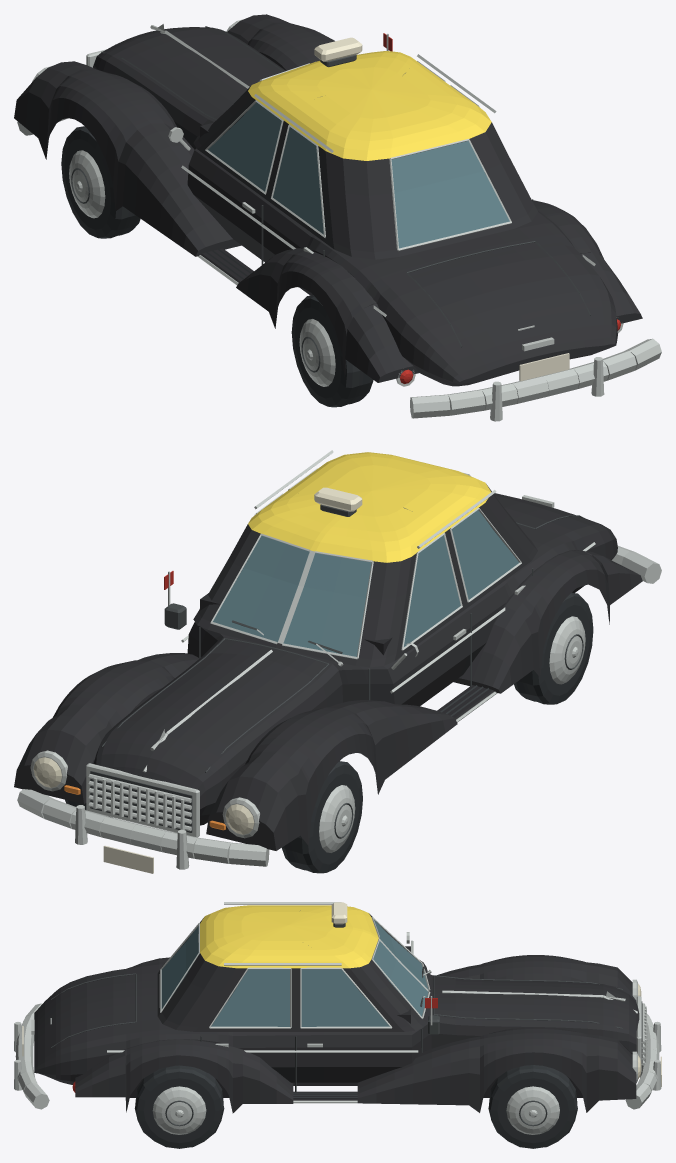
Rendered from 12_taxi_49.glb.
3 renders of one model, top to bottom at view 1: azimuth 30°, elevation 25°; view 2: azimuth 150°, elevation 25°; view 3: azimuth 270°, elevation 25°, orthographic. The views are drawn at different scales.
Visible parts, largest first — view 1: Body, Exterior_Details, Wheel_RL, Wheel_FL, Fine_Details; view 2: Body, Exterior_Details, Fine_Details, Wheel_FL, Wheel_RL; view 3: Body, Exterior_Details, Wheel_FR, Wheel_RR, Fine_Details.
Boxes of the visible parts, x1,y1,x2,y2 form: Body: (14,14,642,386); Exterior_Details: (17,19,661,421); Wheel_RL: (291,295,373,407); Wheel_FL: (61,126,140,238); Fine_Details: (19,24,614,374); Body: (14,452,642,850); Exterior_Details: (17,450,661,873); Fine_Details: (93,468,603,829); Wheel_FL: (282,761,362,873); Wheel_RL: (514,592,593,704); Body: (34,905,639,1113); Exterior_Details: (14,902,661,1109); Wheel_FR: (488,1065,577,1148); Wheel_RR: (134,1065,224,1148); Fine_Details: (50,917,647,1103).
Size of the model in its own units: 1.97 by 1.78 by 5.35.
